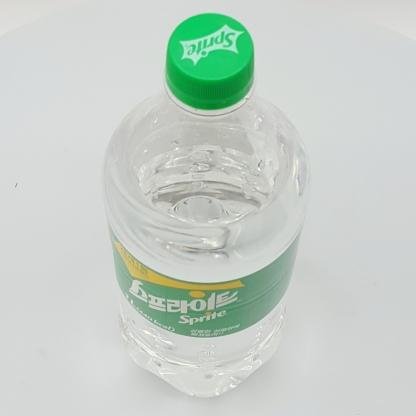--------1L: (101, 13, 311, 397)
